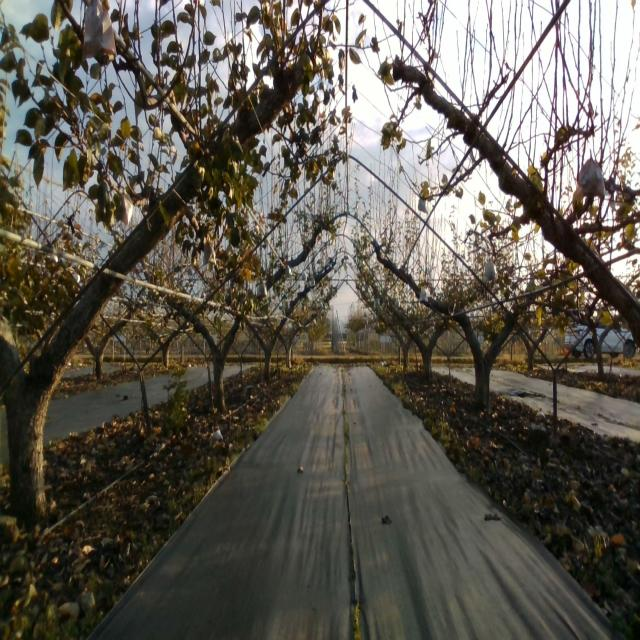pearbags: (82, 0, 118, 62), (578, 152, 606, 200), (120, 190, 134, 226), (482, 259, 496, 283)
